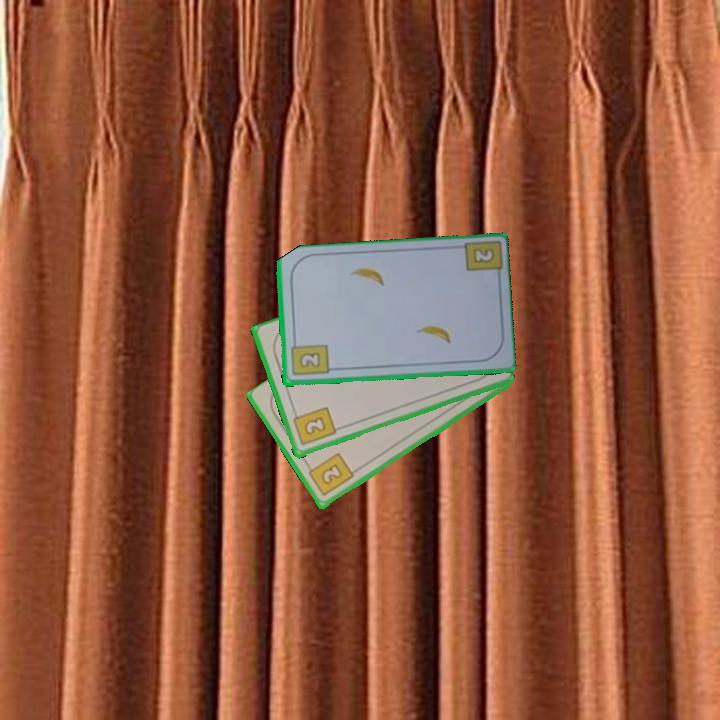2b: (304, 450, 356, 499), (289, 404, 338, 449), (287, 337, 331, 379), (469, 244, 497, 266)
